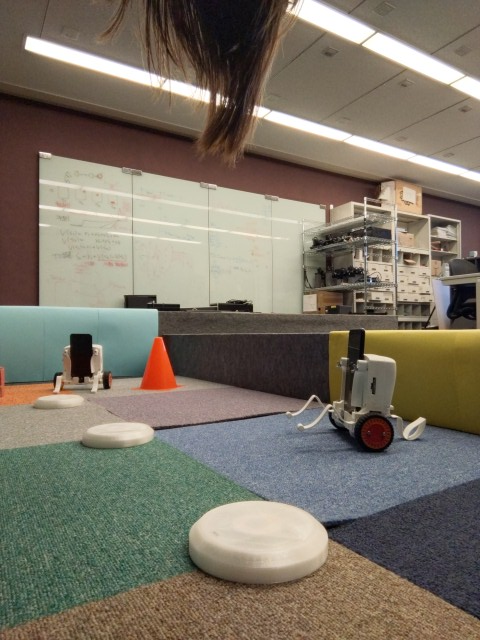bl: (284, 327, 435, 454)
f: (49, 330, 112, 395)
o: (186, 494, 332, 588), (77, 420, 157, 449), (31, 394, 86, 410)
